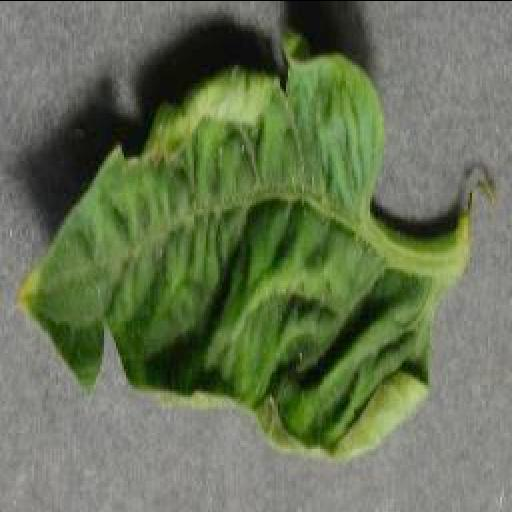disease_tomato: (23, 26, 441, 462)
